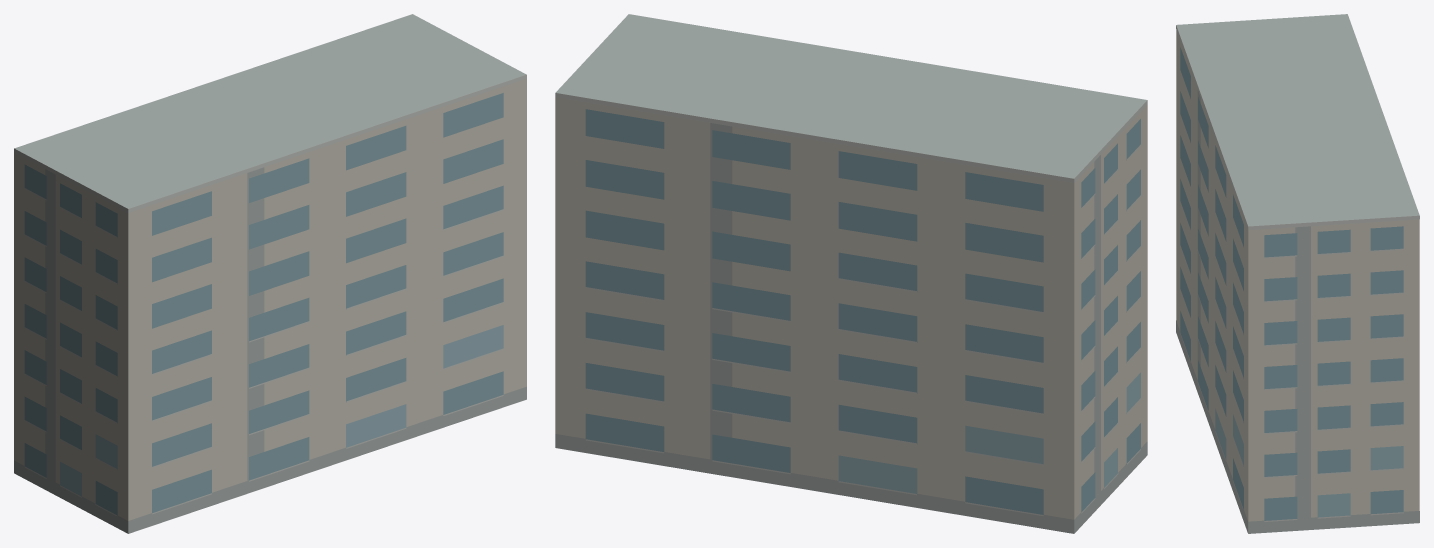
The model's file is survey-upis-32747540.glb.
The picture shows the model from 3 angles, left to right: view 1: azimuth 30°, elevation 25°; view 2: azimuth 150°, elevation 25°; view 3: azimuth 270°, elevation 25°; orthographic projection. The views are drawn at different scales.
Parts seen in each view (by area): view 1: survey-upis-32747540.tmp; view 2: survey-upis-32747540.tmp; view 3: survey-upis-32747540.tmp.
Part boxes in pixels (<box>): survey-upis-32747540.tmp: <box>14,14,526,533</box>; survey-upis-32747540.tmp: <box>555,14,1147,533</box>; survey-upis-32747540.tmp: <box>1176,14,1419,533</box>.
Bounding box in the file's own units: 29.36 × 19.8 × 14.23.
